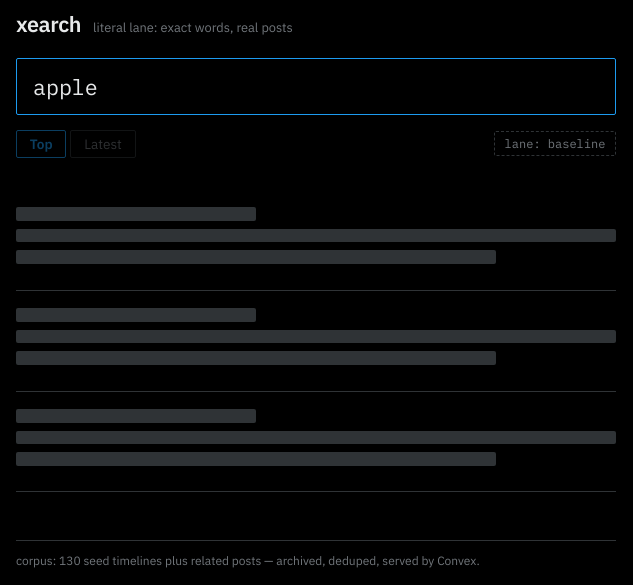
Test: lane toggle /?q=apple&lane=baseline (lane: baseline) shows loading, never stale results
The image size is (633, 585).
Click the button "lane: baseline": (555, 144) [494, 131, 616, 156]
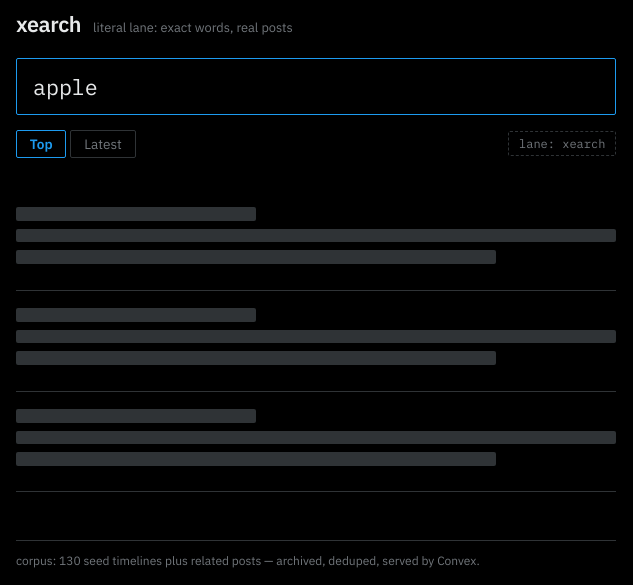
Expected: the element named "Loading results" is shown, [16, 190, 616, 492]
Now the button "lane: xearch" is shown, box [508, 131, 616, 156]
